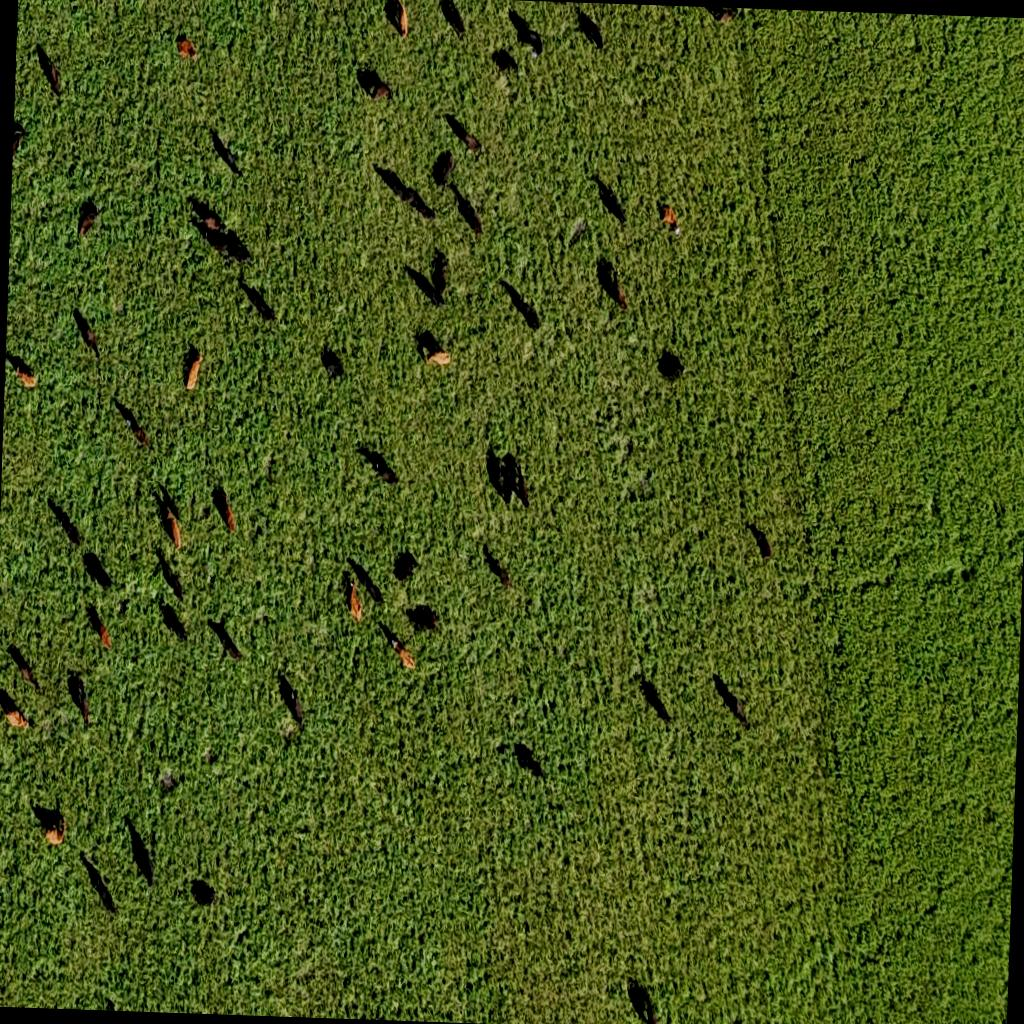cow: (239, 276, 277, 322), (501, 452, 532, 508), (484, 446, 512, 508), (380, 622, 416, 670), (153, 548, 184, 602), (84, 604, 112, 652), (482, 544, 512, 587), (576, 10, 604, 52), (76, 198, 102, 242), (437, 0, 466, 38), (406, 602, 440, 632), (516, 295, 542, 334), (656, 348, 686, 380), (383, 0, 408, 38), (319, 345, 345, 381), (183, 344, 203, 390), (728, 692, 752, 730), (94, 876, 118, 914), (604, 188, 628, 226), (392, 549, 418, 583), (608, 266, 628, 310), (164, 506, 184, 549), (136, 844, 156, 886), (491, 48, 519, 78), (80, 319, 100, 361), (428, 267, 448, 308), (434, 148, 454, 188), (190, 878, 216, 908), (220, 631, 245, 662), (60, 513, 82, 548), (218, 144, 242, 176), (523, 24, 544, 60), (218, 490, 236, 532), (46, 60, 64, 101), (461, 124, 484, 156), (656, 200, 679, 232), (346, 578, 362, 622), (464, 198, 483, 235), (649, 696, 674, 724), (286, 689, 304, 727), (231, 237, 253, 268), (13, 362, 37, 390), (4, 706, 30, 731), (702, 8, 738, 26), (392, 177, 414, 206), (128, 421, 152, 447), (754, 526, 772, 560), (175, 33, 198, 59), (44, 819, 66, 846), (642, 990, 659, 1024), (376, 461, 400, 485), (426, 344, 450, 368), (12, 121, 26, 162), (168, 616, 190, 642), (199, 210, 224, 232), (415, 197, 437, 222), (370, 78, 392, 102), (527, 756, 547, 782), (366, 576, 384, 604), (96, 564, 114, 592), (78, 687, 90, 729), (18, 655, 34, 684), (116, 598, 128, 617)
